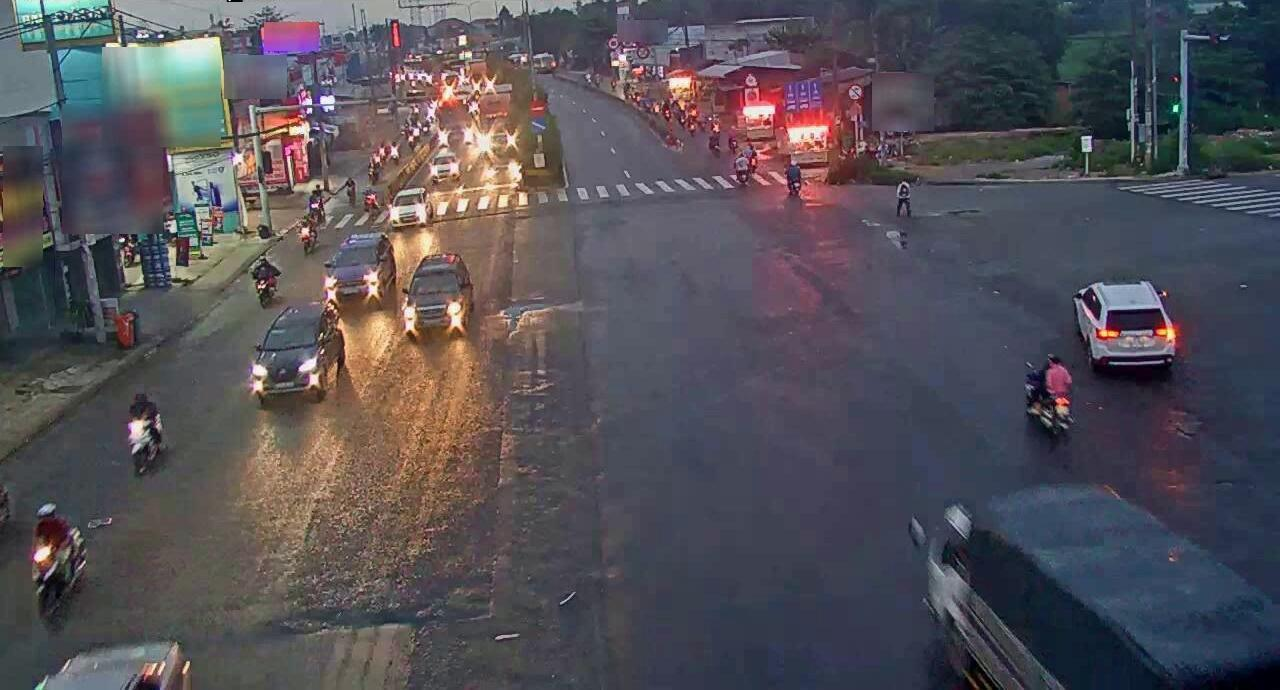xe hoi: (248, 302, 339, 410), (402, 247, 471, 344), (323, 228, 389, 304)
xe may: (26, 498, 95, 624), (1023, 343, 1074, 431), (123, 384, 169, 474)
xe tai: (905, 469, 1279, 689)
